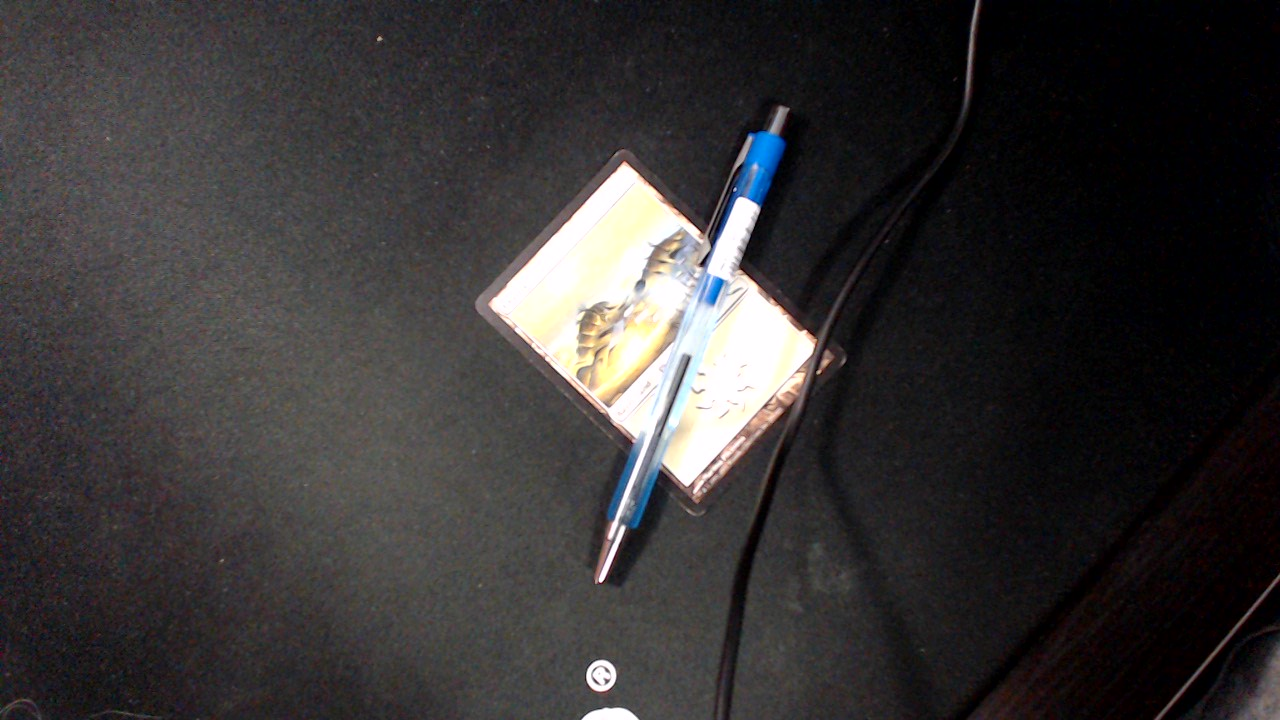MTG Card: (466, 145, 851, 521)
